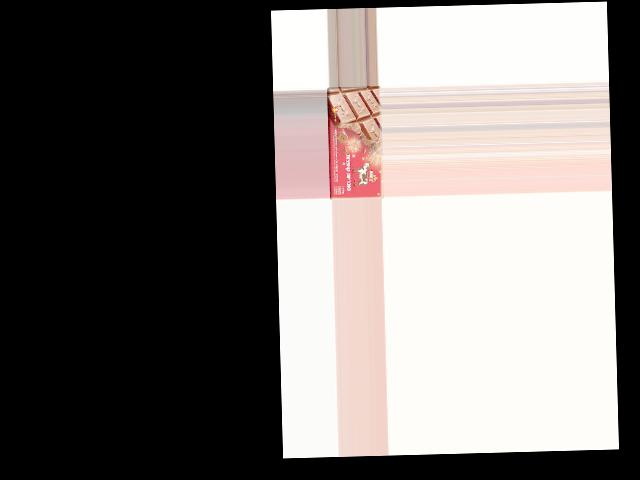chocolate: (327, 86, 383, 200)
